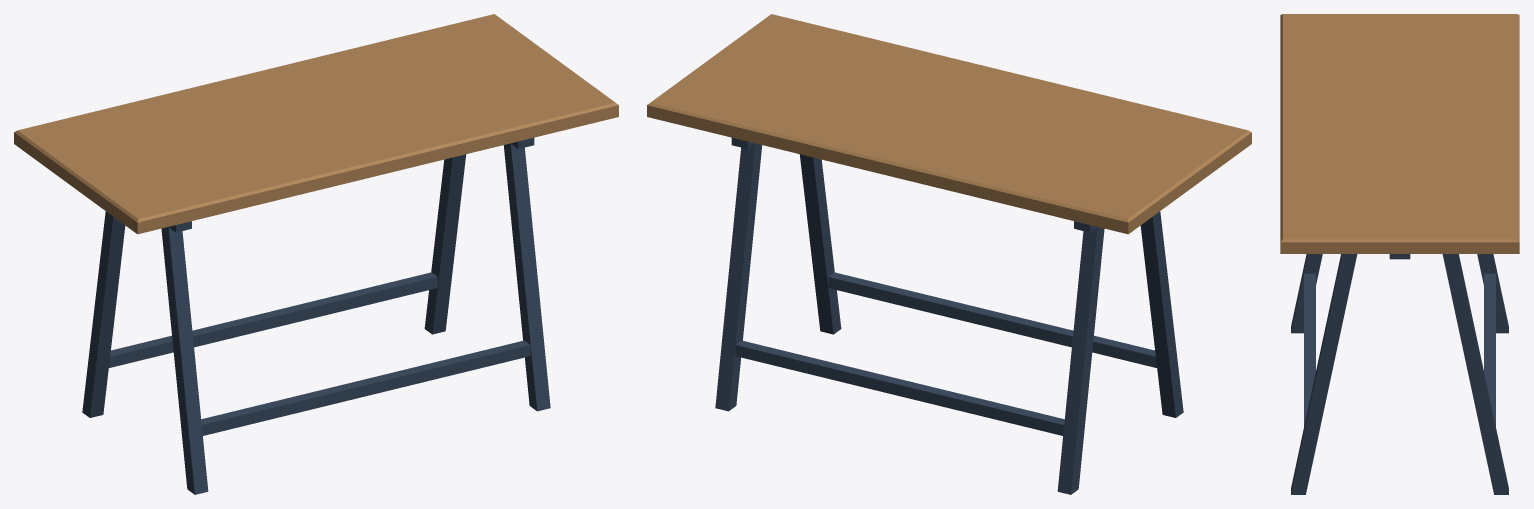
Rendered from FN_Table_Bar_Communal.glb.
The picture shows the model from 3 angles, left to right: view 1: azimuth 30°, elevation 25°; view 2: azimuth 150°, elevation 25°; view 3: azimuth 270°, elevation 25°; orthographic projection. The views are drawn at different scales.
Visible parts, largest first — view 1: FN_Table_Bar_Communal; view 2: FN_Table_Bar_Communal; view 3: FN_Table_Bar_Communal.
Boxes of the visible parts, box(x1,y1,x2,y2) form: FN_Table_Bar_Communal: box(14, 14, 618, 494); FN_Table_Bar_Communal: box(647, 14, 1251, 494); FN_Table_Bar_Communal: box(1280, 14, 1519, 494).
Bounding box in the file's own units: 1.8 × 1.05 × 0.8.
1 material, 1 textured.
